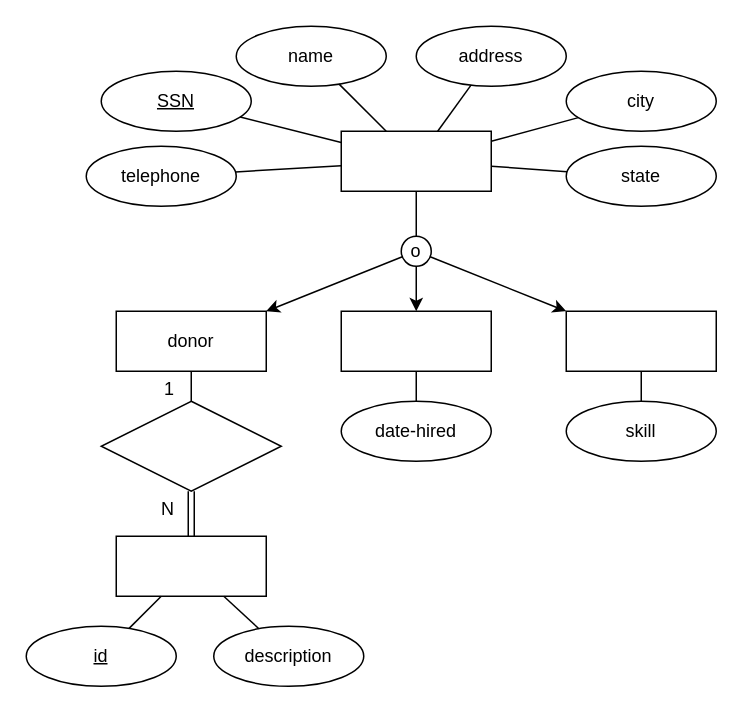
This 743x713 diagram has some shape labels left out. Here are the shapes that lost their labels. From the top down, the box of each, then its label:
(340, 130, 491, 191): person
(340, 310, 491, 371): employee
(565, 310, 716, 371): volunteer
(100, 400, 281, 491): donate
(115, 535, 266, 596): item
